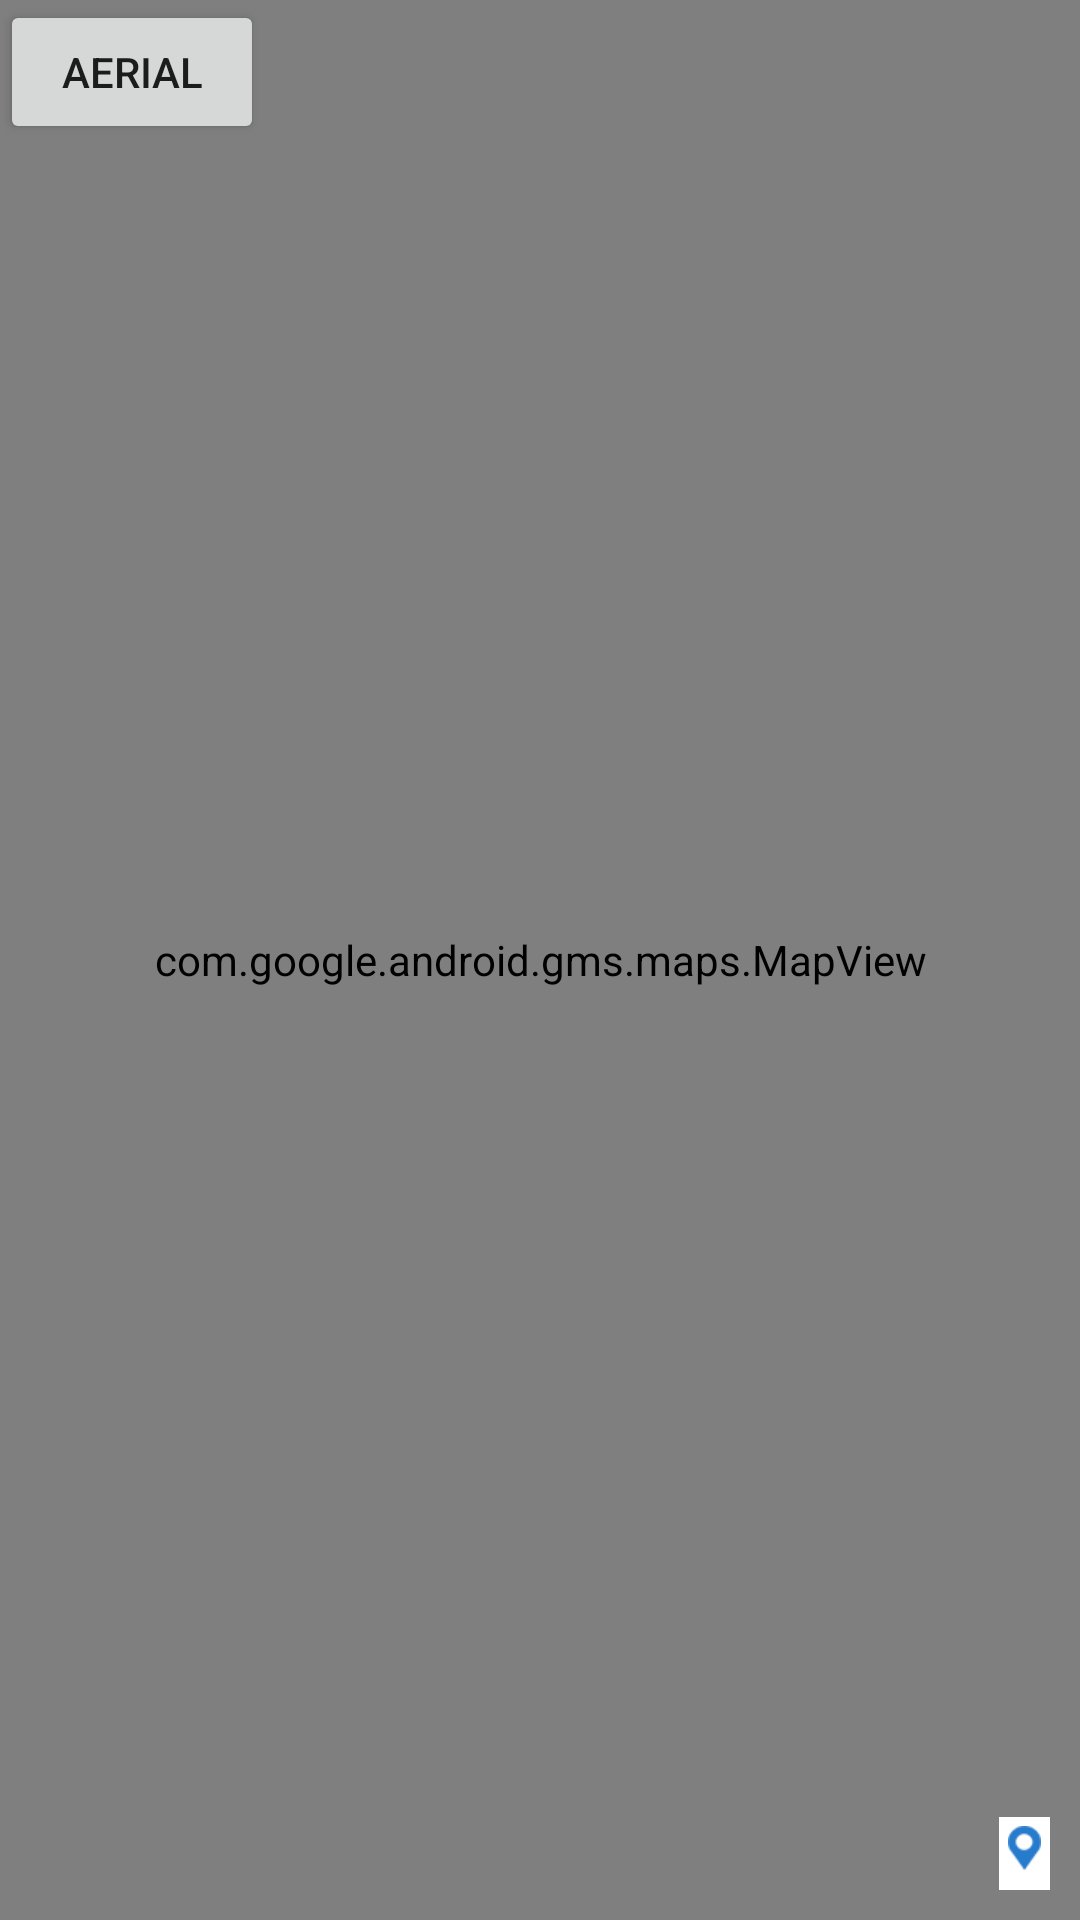

Named icons in this screenshot (1080 x 1920) and their bounding boxes, (x1, y1, x2, y2):
home location: (999, 1817, 1050, 1879)
